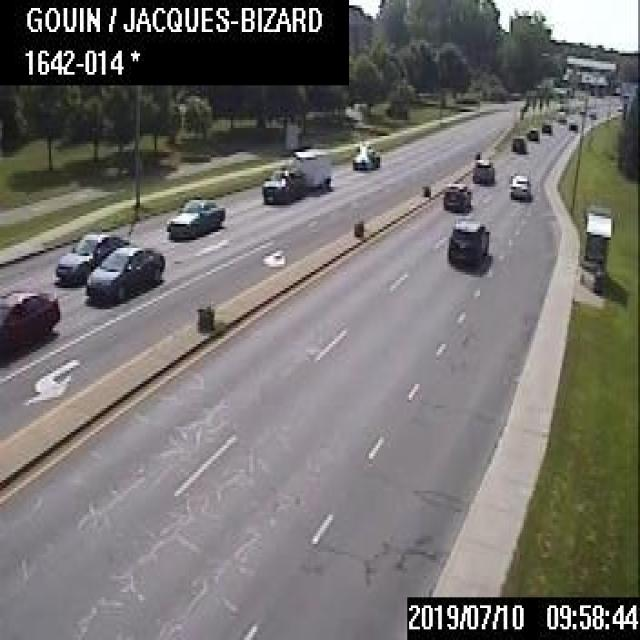vehicle: (84, 244, 164, 301), (0, 288, 58, 363), (55, 230, 130, 282), (260, 147, 329, 203), (164, 196, 224, 240), (446, 220, 488, 268), (441, 180, 471, 209), (351, 139, 380, 167), (507, 171, 531, 198), (471, 156, 494, 181), (510, 134, 525, 151), (525, 126, 538, 138), (540, 118, 551, 132), (554, 109, 565, 120), (568, 120, 576, 128)
